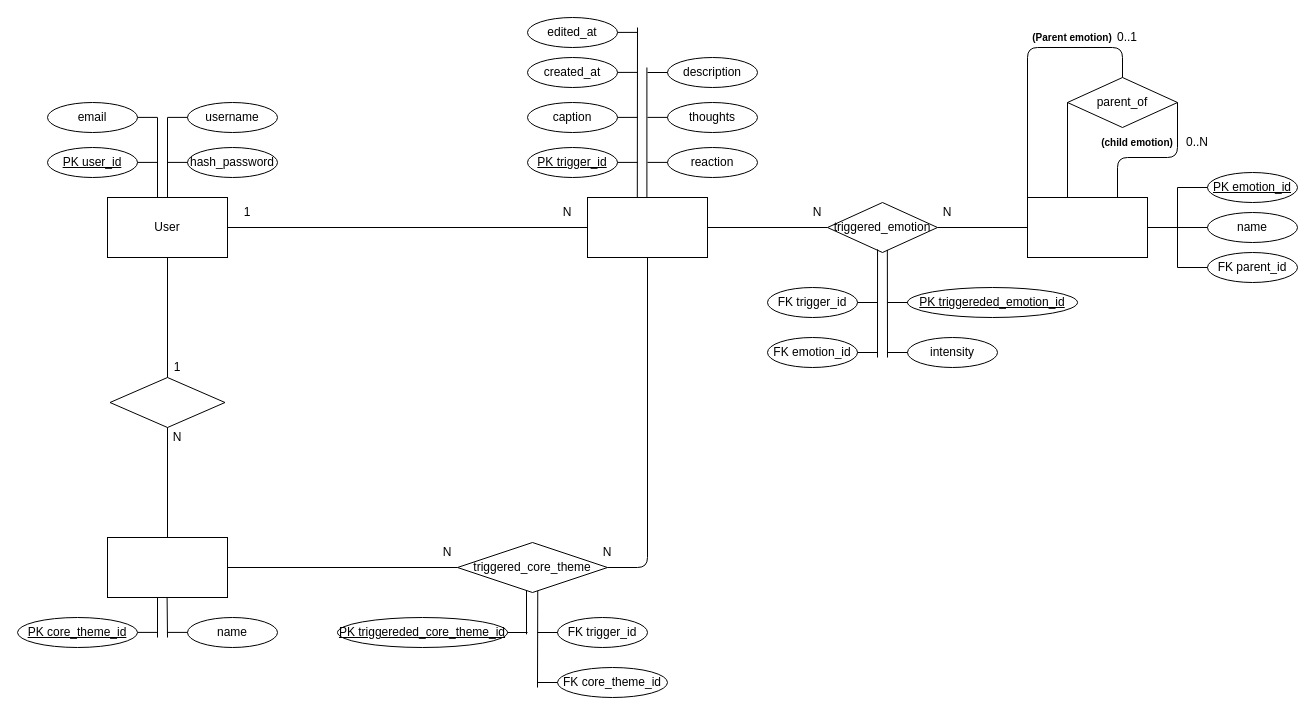
Some shapes in this 1315 by 715 pixel diagram are drawn without their labels. The centre of each missing label's shape, as x and y in pixels:
"Core Theme" belongs at pixel 167 567.
"Emotion" belongs at pixel 1087 227.
"Trigger" belongs at pixel 647 227.
"user_core_theme" belongs at pixel 167 402.
